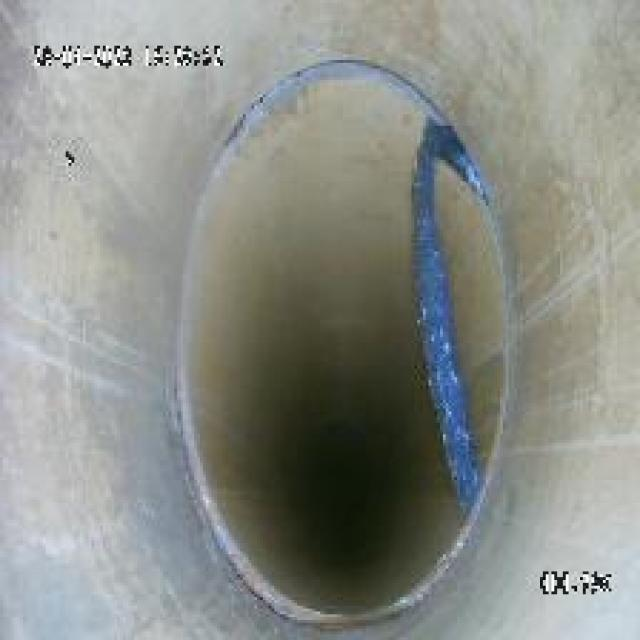joint: (160, 51, 509, 628)
